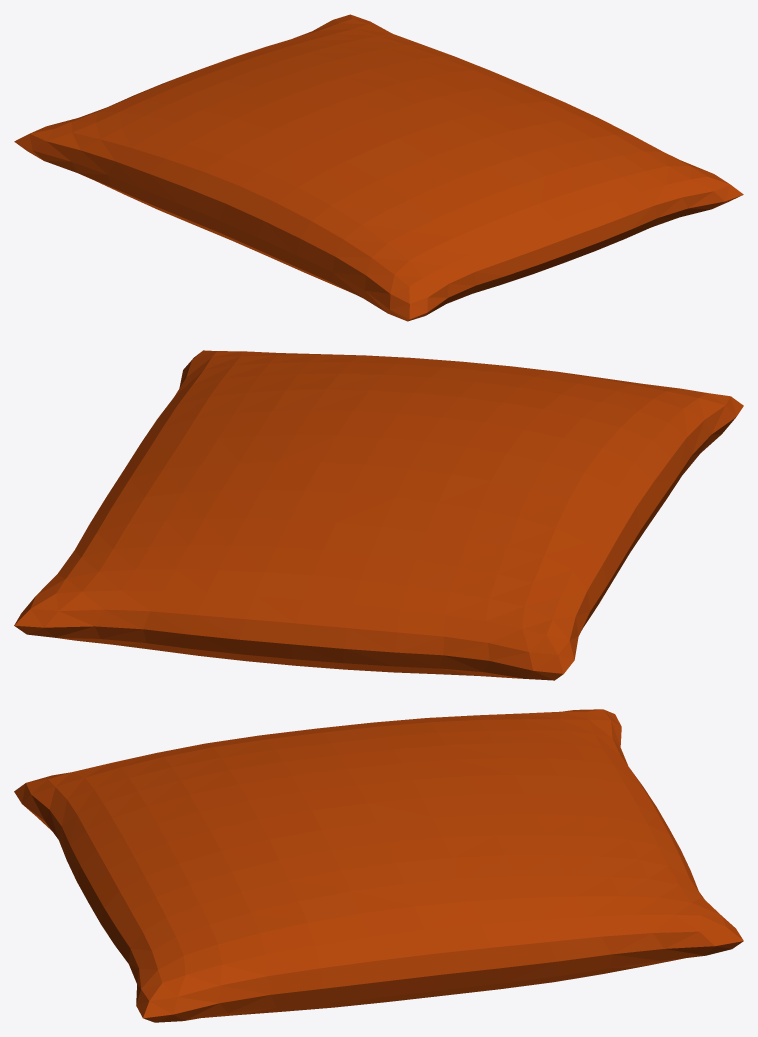
The model's file is bantaiLantai2.obj.
The picture shows the model from 3 angles, top to bottom: view 1: azimuth 30°, elevation 25°; view 2: azimuth 150°, elevation 25°; view 3: azimuth 270°, elevation 25°; orthographic projection. The views are drawn at different scales.
Visible parts, largest first — view 1: Cushion_Cube.027; view 2: Cushion_Cube.027; view 3: Cushion_Cube.027.
Boxes of the visible parts, <box> form: Cushion_Cube.027: <box>14,14,743,321</box>; Cushion_Cube.027: <box>14,350,743,680</box>; Cushion_Cube.027: <box>14,709,743,1022</box>.
Bounding box in the file's own units: 0.9892 × 0.1949 × 1.09.
